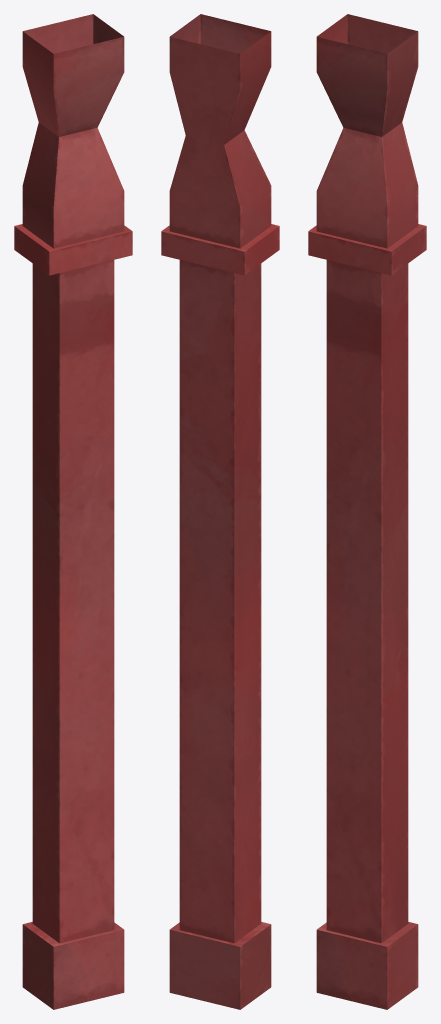
File: Wooden post .fbx
3 views of the same model, side by side, from view 1: azimuth 30°, elevation 25°; view 2: azimuth 150°, elevation 25°; view 3: azimuth 330°, elevation 25° (orthographic).
Parts seen in each view (by area): view 1: Wooden post; view 2: Wooden post; view 3: Wooden post.
Part boxes in pixels (x1=…): Wooden post: x1=14, y1=14, x2=132, y2=1009; Wooden post: x1=161, y1=14, x2=279, y2=1009; Wooden post: x1=308, y1=14, x2=426, y2=1009.
Size of the model in its own units: 16.15 by 177 by 11.81.
